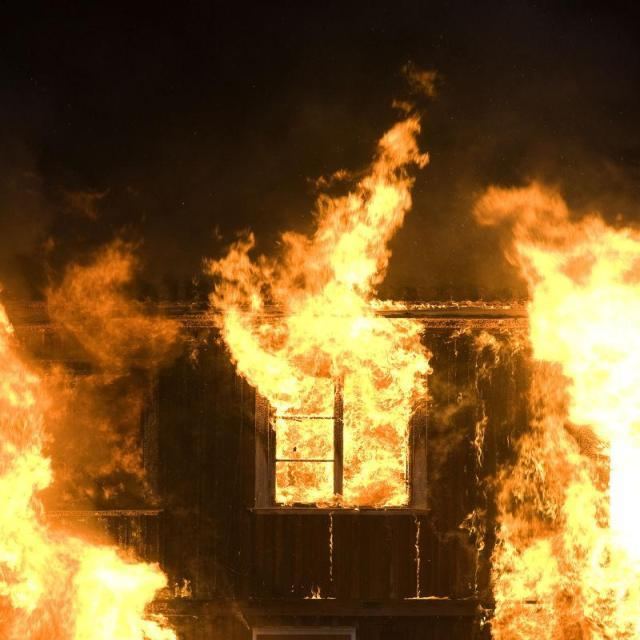Fire: (208, 115, 436, 509), (467, 173, 639, 640), (0, 240, 193, 640)
